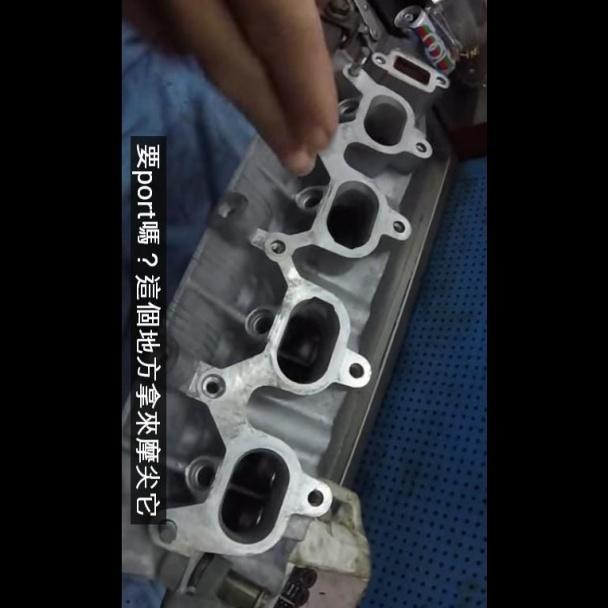hole: (200, 374, 226, 399), (305, 489, 324, 507), (347, 362, 364, 378), (269, 238, 285, 254), (391, 220, 405, 233), (414, 141, 426, 152), (373, 54, 386, 64), (436, 76, 446, 85)
